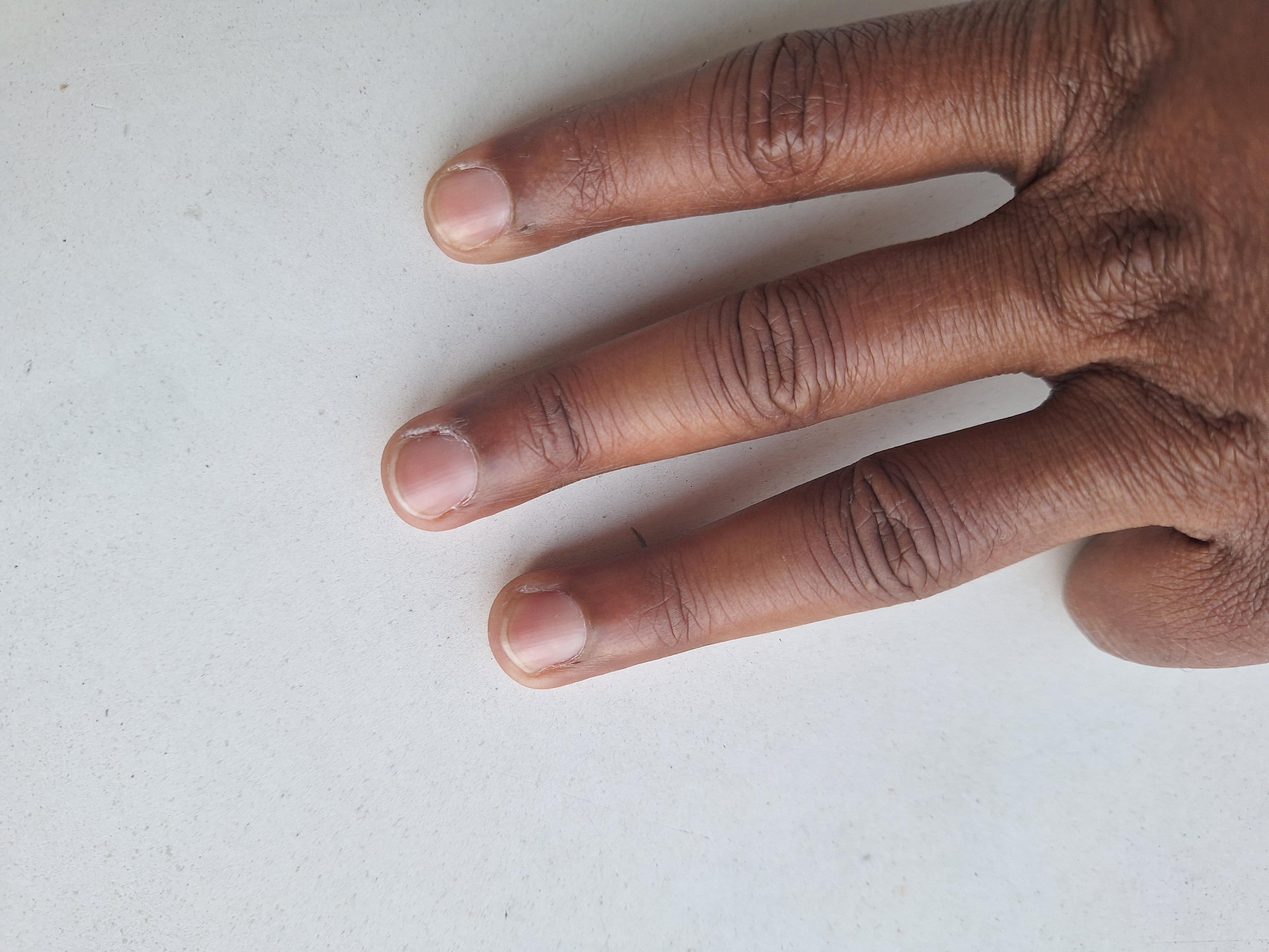Fingernail: (388, 433, 477, 520), (501, 592, 585, 675), (429, 167, 511, 251)
